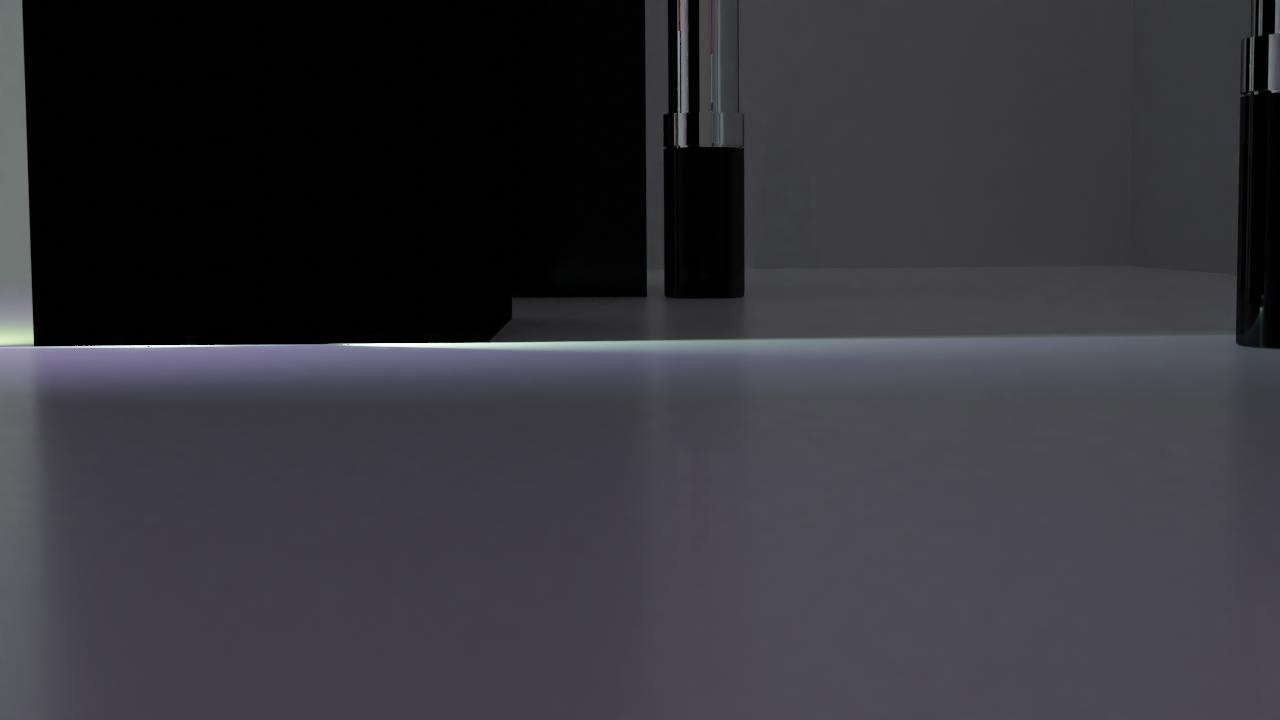CLASSIFIER_NAME: (662, 0, 745, 298), (1233, 0, 1280, 349)
